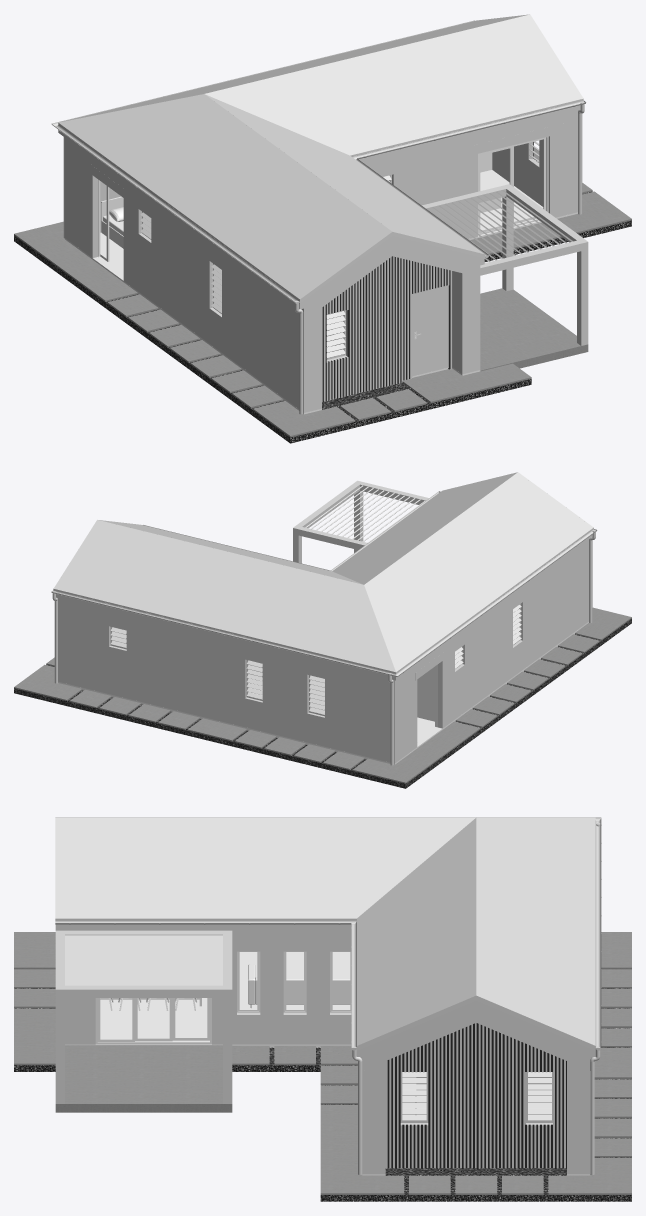
File: TRADIHOME28.glb
The picture shows the model from 3 angles, top to bottom: view 1: azimuth 30°, elevation 25°; view 2: azimuth 150°, elevation 25°; view 3: azimuth 270°, elevation 25°; orthographic projection. The views are drawn at different scales.
Parts seen in each view (by area): view 1: Geometry132_Toit1_0, Geometry133_Toit1_0, Geometry4_Murs_0, Geometry21_Murs_0, Geometry131_Toit1_0, Geometry669_sol pergola_0, Geometry171_sol_0, Geometry111_dalles_0, Geometry12_porte_0, Geometry134_Toit1_0, Geometry100_dalles_0, Geometry112_dalles_0 (+35 smaller); view 2: Geometry15_Murs_0, Geometry134_Toit1_0, Geometry132_Toit1_0, Geometry4_Murs_0, Geometry131_Toit1_0, Geometry171_sol_0, Geometry111_dalles_0, Geometry680_volet pergola_0, Geometry133_Toit1_0, Geometry167_Murs_0, Geometry98_sol int_0, Geometry175_goutieres_0 (+27 smaller); view 3: Geometry131_Toit1_0, Geometry134_Toit1_0, Geometry133_Toit1_0, Geometry5_Murs_0, Geometry669_sol pergola_0, Geometry680_volet pergola_0, Geometry98_sol int_0, Geometry171_sol_0, Geometry112_dalles_0, Geometry139_Murs_0, Geometry141_Murs_0, Geometry100_dalles_0 (+45 smaller).
Boxes of the visible parts, left/top/right/bottom form: Geometry132_Toit1_0: left=58, top=94, right=391, bottom=300; Geometry133_Toit1_0: left=205, top=14, right=583, bottom=156; Geometry4_Murs_0: left=65, top=138, right=309, bottom=412; Geometry21_Murs_0: left=363, top=114, right=575, bottom=238; Geometry131_Toit1_0: left=205, top=94, right=483, bottom=253; Geometry669_sol pergola_0: left=480, top=288, right=588, bottom=371; Geometry171_sol_0: left=14, top=191, right=631, bottom=443; Geometry111_dalles_0: left=14, top=221, right=137, bottom=301; Geometry12_porte_0: left=412, top=285, right=448, bottom=376; Geometry134_Toit1_0: left=61, top=14, right=528, bottom=121; Geometry100_dalles_0: left=402, top=363, right=531, bottom=402; Geometry112_dalles_0: left=470, top=191, right=631, bottom=254; Geometry15_Murs_0: left=58, top=601, right=389, bottom=762; Geometry134_Toit1_0: left=53, top=520, right=395, bottom=673; Geometry132_Toit1_0: left=364, top=472, right=593, bottom=673; Geometry4_Murs_0: left=390, top=545, right=588, bottom=763; Geometry131_Toit1_0: left=332, top=472, right=517, bottom=584; Geometry171_sol_0: left=14, top=618, right=631, bottom=788; Geometry111_dalles_0: left=352, top=721, right=480, bottom=783; Geometry680_volet pergola_0: left=305, top=485, right=424, bottom=542; Geometry133_Toit1_0: left=99, top=520, right=362, bottom=584; Geometry167_Murs_0: left=56, top=594, right=395, bottom=680; Geometry98_sol int_0: left=58, top=622, right=588, bottom=764; Geometry175_goutieres_0: left=51, top=590, right=397, bottom=676; Geometry131_Toit1_0: left=55, top=817, right=475, bottom=920; Geometry134_Toit1_0: left=476, top=817, right=595, bottom=1045; Geometry133_Toit1_0: left=357, top=818, right=476, bottom=1045; Geometry5_Murs_0: left=65, top=930, right=351, bottom=1044; Geometry669_sol pergola_0: left=55, top=1045, right=232, bottom=1112; Geometry680_volet pergola_0: left=65, top=935, right=222, bottom=985; Geometry98_sol int_0: left=65, top=952, right=590, bottom=1175; Geometry171_sol_0: left=14, top=988, right=631, bottom=1201; Geometry112_dalles_0: left=320, top=1105, right=404, bottom=1194; Geometry139_Murs_0: left=476, top=1000, right=590, bottom=1070; Geometry141_Murs_0: left=362, top=1000, right=476, bottom=1070; Geometry100_dalles_0: left=14, top=1008, right=55, bottom=1065.
Bounding box in the file's own units: 13.3 × 4.49 × 13.3.
39 materials, 3 textured.
